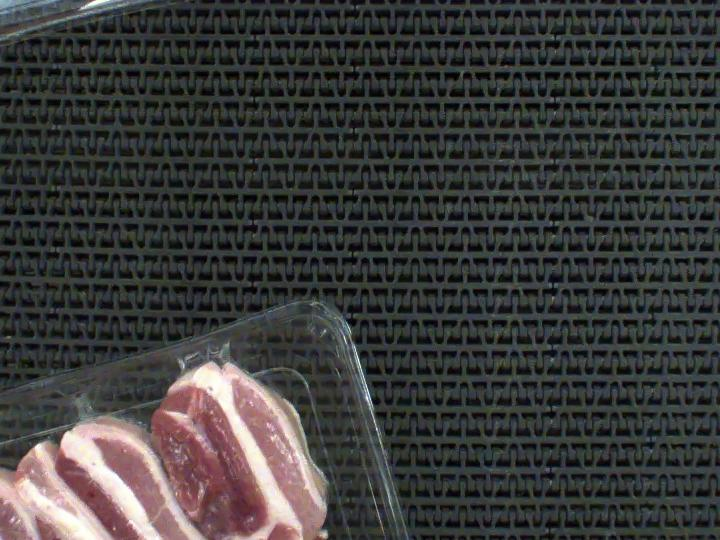packaging-error: (63, 317, 287, 410)
